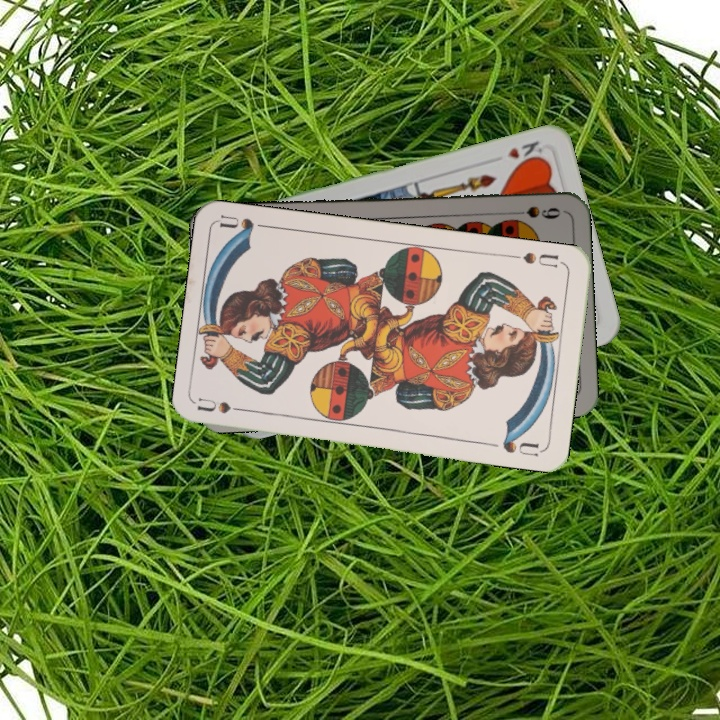HK: (503, 137, 545, 161)
S9: (504, 202, 563, 221)
SU: (507, 248, 566, 270), (196, 394, 255, 416)
